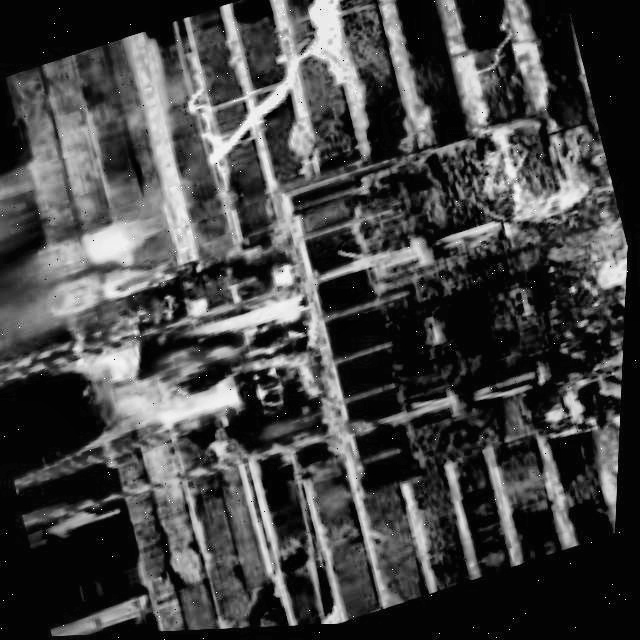Fire: (77, 284, 334, 459)
